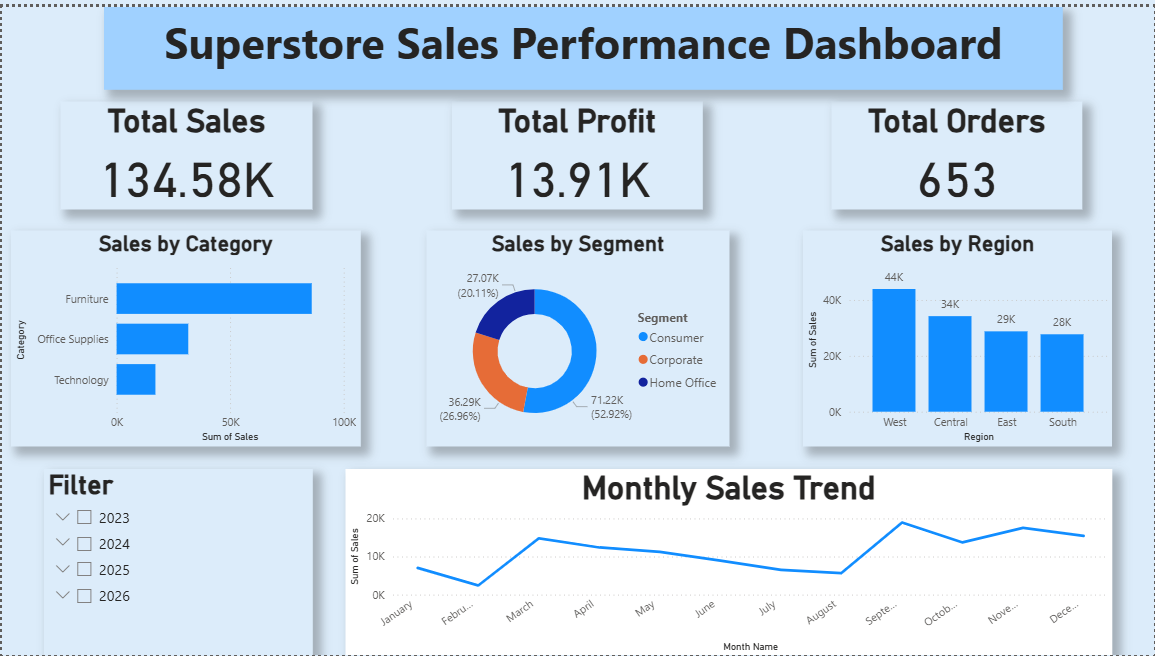

What the dashboard file says about the page in this screenshot:
{"tool":"powerbi","page":{"name":"Page 1","canvas":[1280,720],"ordinal":0},"visuals":[{"type":"card","title":"Total Sales","fields":{"Values":["samplesuperstore.Total Sales"]},"box":[65,105,280,120],"z":0},{"type":"card","title":"Total Profit","fields":{"Values":["samplesuperstore.Profit Total"]},"box":[500,105,278.3,120],"z":1000},{"type":"card","title":"Total Orders","fields":{"Values":["samplesuperstore.Total Orders"]},"box":[921.7,105,278.3,120],"z":2000},{"type":"clusteredBarChart","title":"Sales by Category","fields":{"Category":["samplesuperstore.Category"],"Y":["Sum(samplesuperstore.Sales)"]},"box":[10,248.3,388.3,240],"z":3000},{"type":"clusteredColumnChart","title":"Sales by Region","fields":{"Category":["samplesuperstore.Region"],"Y":["Sum(samplesuperstore.Sales)"]},"box":[890,248.3,343.3,240],"z":4000},{"type":"lineChart","title":"Monthly Sales Trend ","fields":{"Y":["Sum(samplesuperstore.Sales)"],"Category":["samplesuperstore.Month Name"]},"box":[382.1,513.3,851.7,207.3],"z":5000},{"type":"donutChart","title":"Sales by Segment","fields":{"Category":["samplesuperstore.Segment"],"Y":["Sum(samplesuperstore.Sales)"]},"box":[471.7,248.3,336.7,240],"z":6000},{"type":"slicer","title":"Filter","fields":{"Values":["samplesuperstore.Year","samplesuperstore.Region","samplesuperstore.Category","samplesuperstore.Segment"]},"box":[46.7,513.3,298.3,206.7],"z":7000},{"type":"textbox","box":[113.3,0,1065.5,92.3],"z":8000}]}

Visuals, with their boxes in screenshot pixels (x1, y1, x2, y2), scaled from the page's 1280x720 canvas onto the 1155x656 screenshot:
"Total Sales" card: box(59, 96, 311, 205)
"Total Profit" card: box(451, 96, 702, 205)
"Total Orders" card: box(832, 96, 1083, 205)
"Sales by Category" clusteredBarChart: box(9, 226, 359, 445)
"Sales by Region" clusteredColumnChart: box(803, 226, 1113, 445)
"Monthly Sales Trend " lineChart: box(345, 468, 1113, 655)
"Sales by Segment" donutChart: box(426, 226, 729, 445)
"Filter" slicer: box(42, 468, 311, 655)
textbox: box(102, 0, 1064, 84)
